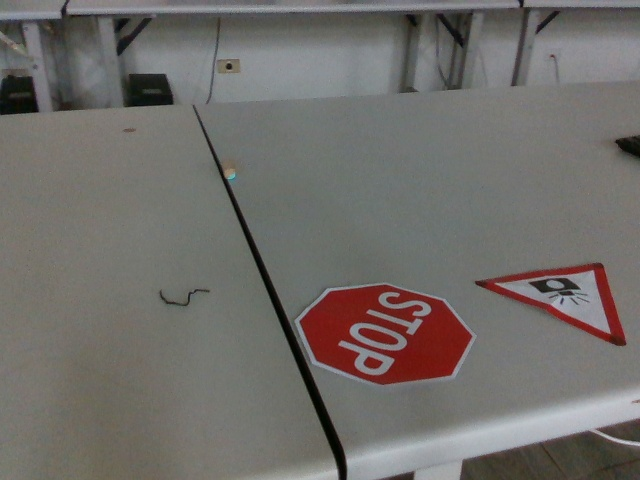camera: (479, 260, 627, 352)
stop: (285, 280, 477, 386)
